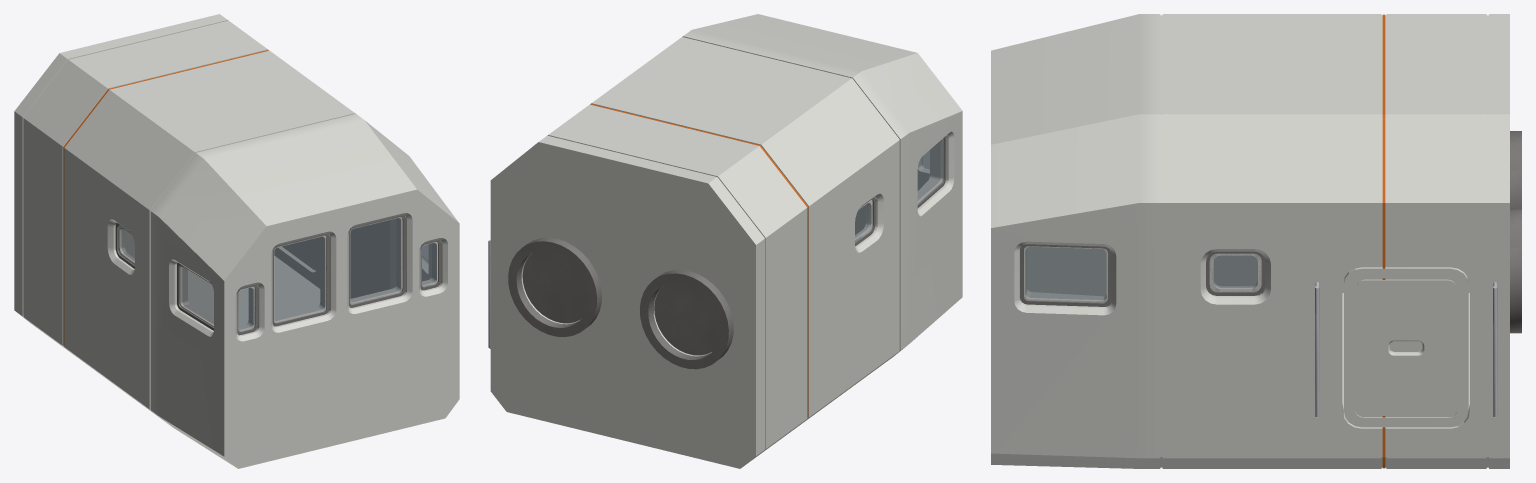
Rendered from ax_rover_01_cab2.glb.
3 views of the same model, side by side, from view 1: azimuth 30°, elevation 25°; view 2: azimuth 150°, elevation 25°; view 3: azimuth 270°, elevation 25° (orthographic). The views are drawn at different scales.
Parts seen in each view (by area): view 1: hub_shell, window_glass, window_frames, orange_stripes, hatch_door_1; view 2: hub_shell, suitport_rings, suitport_hatch_r, suitport_hatch_l, window_glass, orange_stripes, window_frames; view 3: hub_shell, hatch_door_1, window_glass, suitport_rings, window_frames, handrails, orange_stripes.
Boxes of the visible parts, left/top/right/bottom form: hub_shell: left=14, top=14, right=459, bottom=468; window_glass: left=118, top=218, right=436, bottom=330; window_frames: left=115, top=215, right=441, bottom=335; orange_stripes: left=63, top=50, right=268, bottom=345; hatch_door_1: left=282, top=237, right=317, bottom=270; hub_shell: left=490, top=14, right=962, bottom=468; suitport_rings: left=508, top=237, right=733, bottom=369; suitport_hatch_r: left=654, top=282, right=720, bottom=355; suitport_hatch_l: left=522, top=250, right=588, bottom=323; window_glass: left=855, top=139, right=942, bottom=241; orange_stripes: left=590, top=104, right=808, bottom=417; window_frames: left=855, top=136, right=945, bottom=245; hub_shell: left=991, top=14, right=1509, bottom=468; hatch_door_1: left=1344, top=267, right=1468, bottom=427; window_glass: left=1025, top=246, right=1260, bottom=302; suitport_rings: left=1510, top=131, right=1521, bottom=333; window_frames: left=1020, top=244, right=1265, bottom=306; handrails: left=1315, top=282, right=1497, bottom=417; orange_stripes: left=1382, top=14, right=1385, bottom=468.
Bounding box in the file's own units: 2.58 × 2.56 × 3.58.
5 materials, 2 textured.
